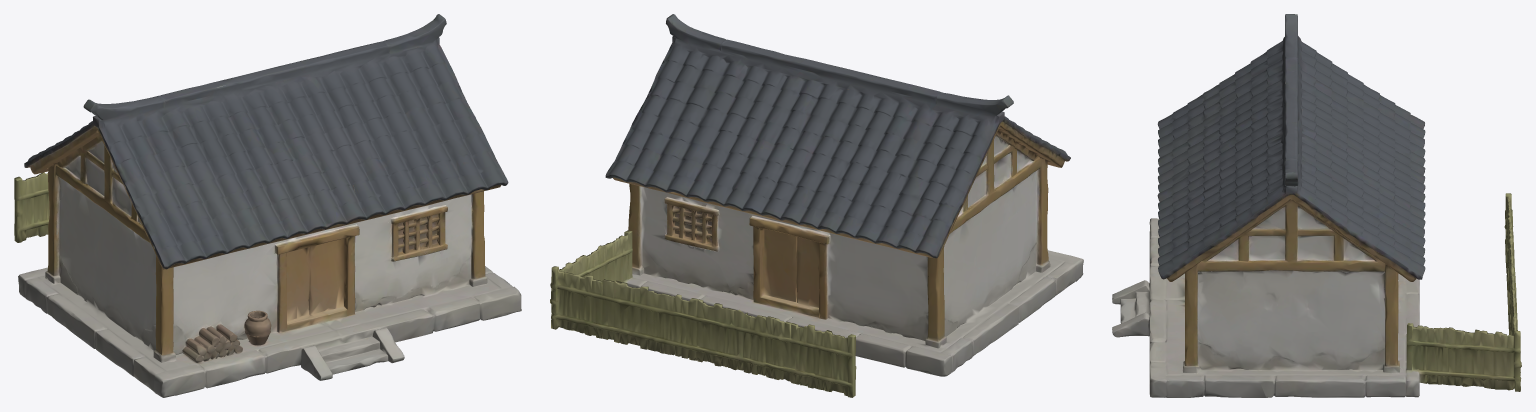
The model's file is house.glb.
3 views of the same model, side by side, from view 1: azimuth 30°, elevation 25°; view 2: azimuth 150°, elevation 25°; view 3: azimuth 270°, elevation 25° (orthographic). The views are drawn at different scales.
Parts seen in each view (by area): view 1: tripo_node_2453ee2a-a3d3-45ea-ad56-e49c16b9d721; view 2: tripo_node_2453ee2a-a3d3-45ea-ad56-e49c16b9d721; view 3: tripo_node_2453ee2a-a3d3-45ea-ad56-e49c16b9d721.
Boxes of the visible parts, box(x1,y1,x2,y2) form: tripo_node_2453ee2a-a3d3-45ea-ad56-e49c16b9d721: box(14, 14, 521, 397); tripo_node_2453ee2a-a3d3-45ea-ad56-e49c16b9d721: box(550, 14, 1083, 397); tripo_node_2453ee2a-a3d3-45ea-ad56-e49c16b9d721: box(1112, 14, 1521, 397).
Size of the model in its own units: 0.9432 by 0.6066 by 1.
Materials: 1 (1 with a texture image).
